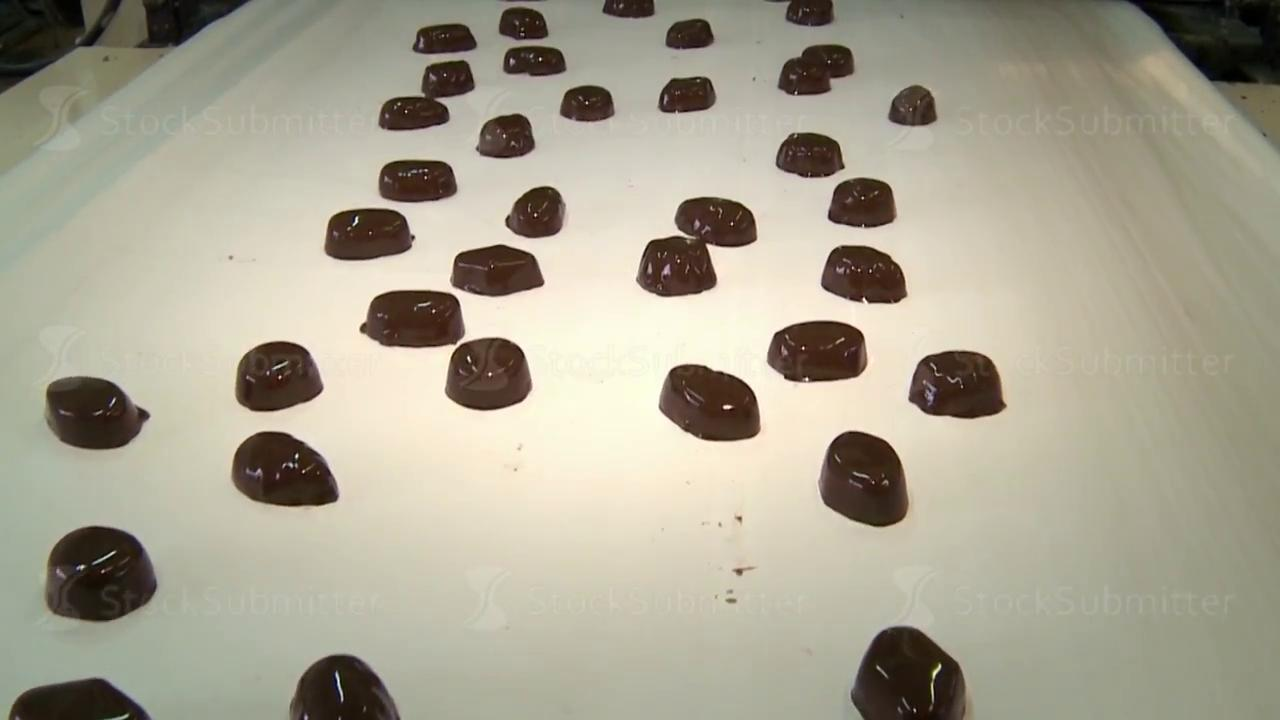chocolate: (850, 625, 967, 719), (44, 524, 157, 621), (818, 430, 909, 526), (231, 430, 339, 506), (658, 363, 760, 441), (44, 374, 150, 449), (289, 653, 400, 719), (908, 350, 1005, 418), (445, 337, 532, 409), (235, 340, 323, 411), (767, 320, 867, 382), (7, 676, 151, 719), (360, 289, 464, 347), (821, 244, 907, 303), (636, 235, 716, 296), (451, 244, 543, 296), (324, 207, 414, 260), (675, 196, 757, 246), (828, 177, 896, 227), (379, 159, 456, 201), (775, 131, 844, 177), (505, 186, 565, 237), (477, 113, 534, 158), (378, 95, 449, 130), (658, 75, 716, 113), (421, 59, 474, 97), (560, 85, 614, 122), (889, 84, 936, 126), (503, 45, 566, 76), (412, 23, 476, 53), (499, 7, 548, 40), (665, 18, 713, 49), (785, 0, 833, 26)
